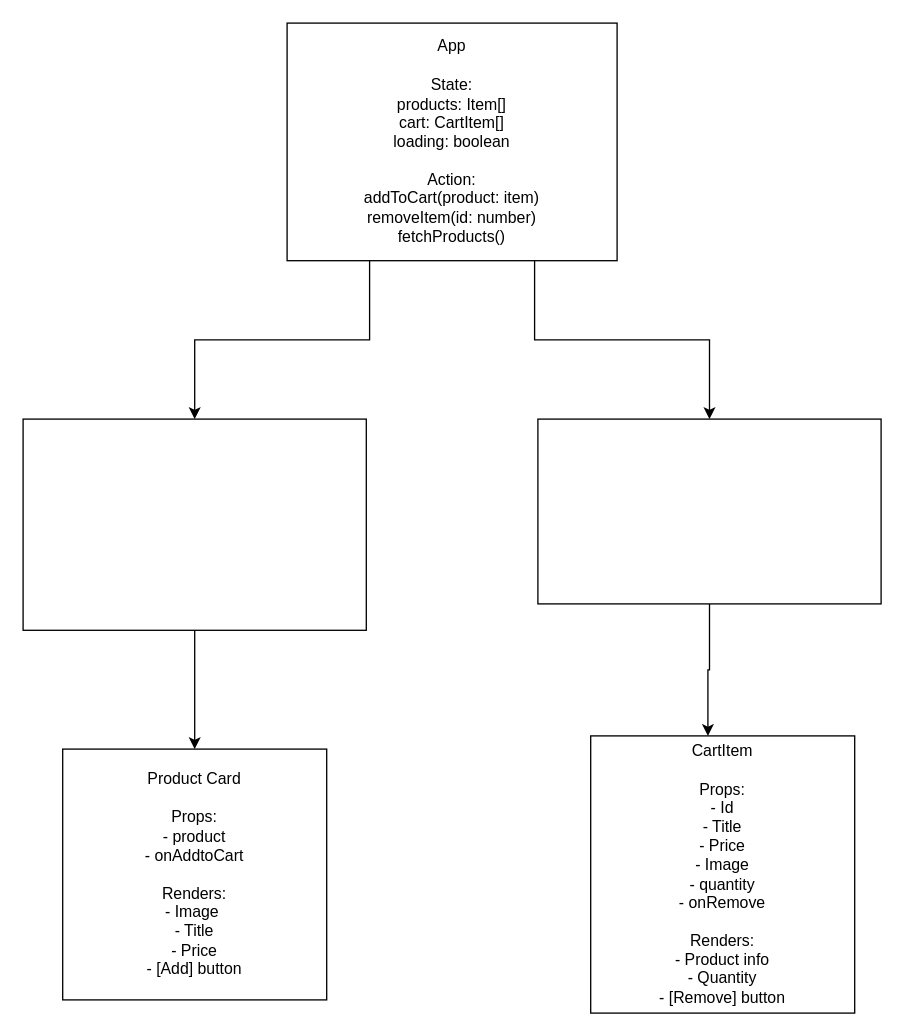
This 904x1036 diagram has some shape labels left out. Here are the shapes that lost their labels. From the top down, the centre of each, then its label:
At pixel 194 524: "ProductList Props: - products - onAddToCart Renders: -Grid layout - Maps arrays".
At pixel 709 511: "ShoppingCart Props: - cart - onRemove Events: - CartItem list - Total price".
